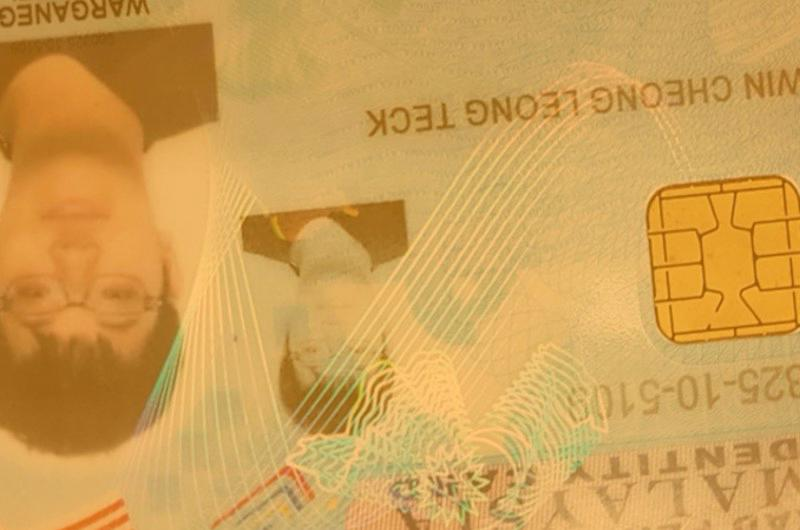hologram: (428, 129, 569, 341)
